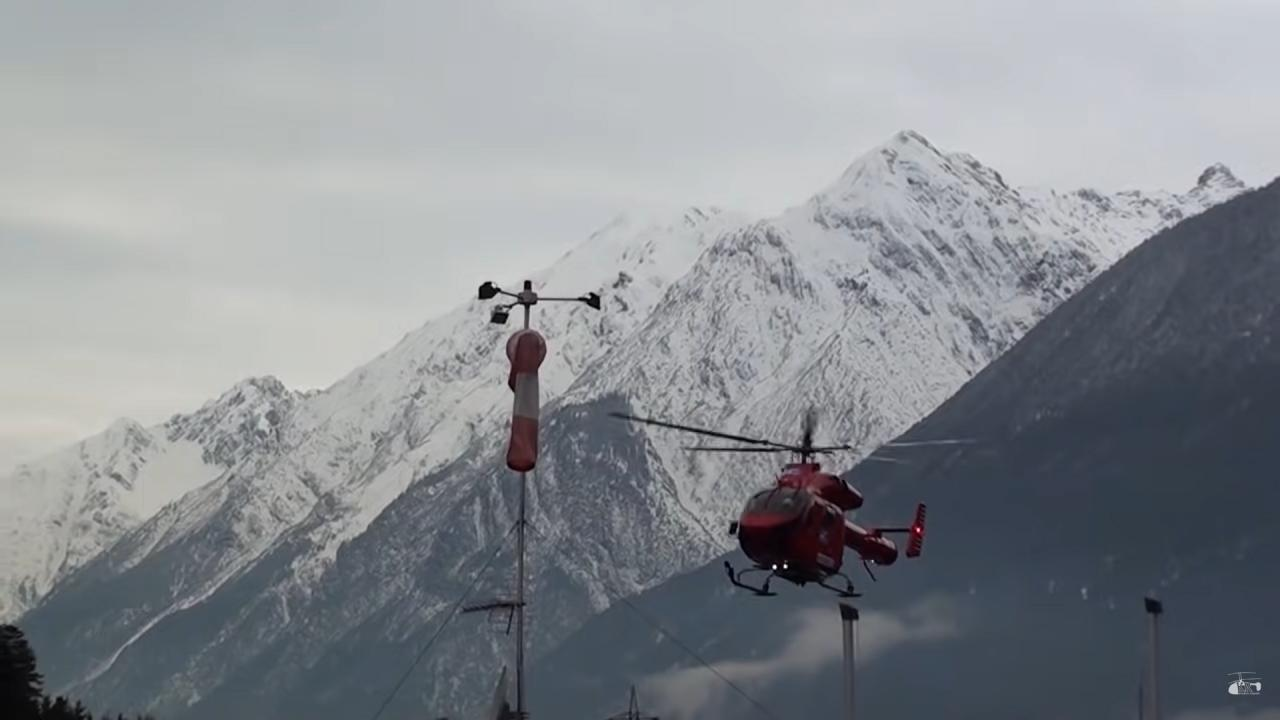Helicopter: (596, 394, 993, 605)
